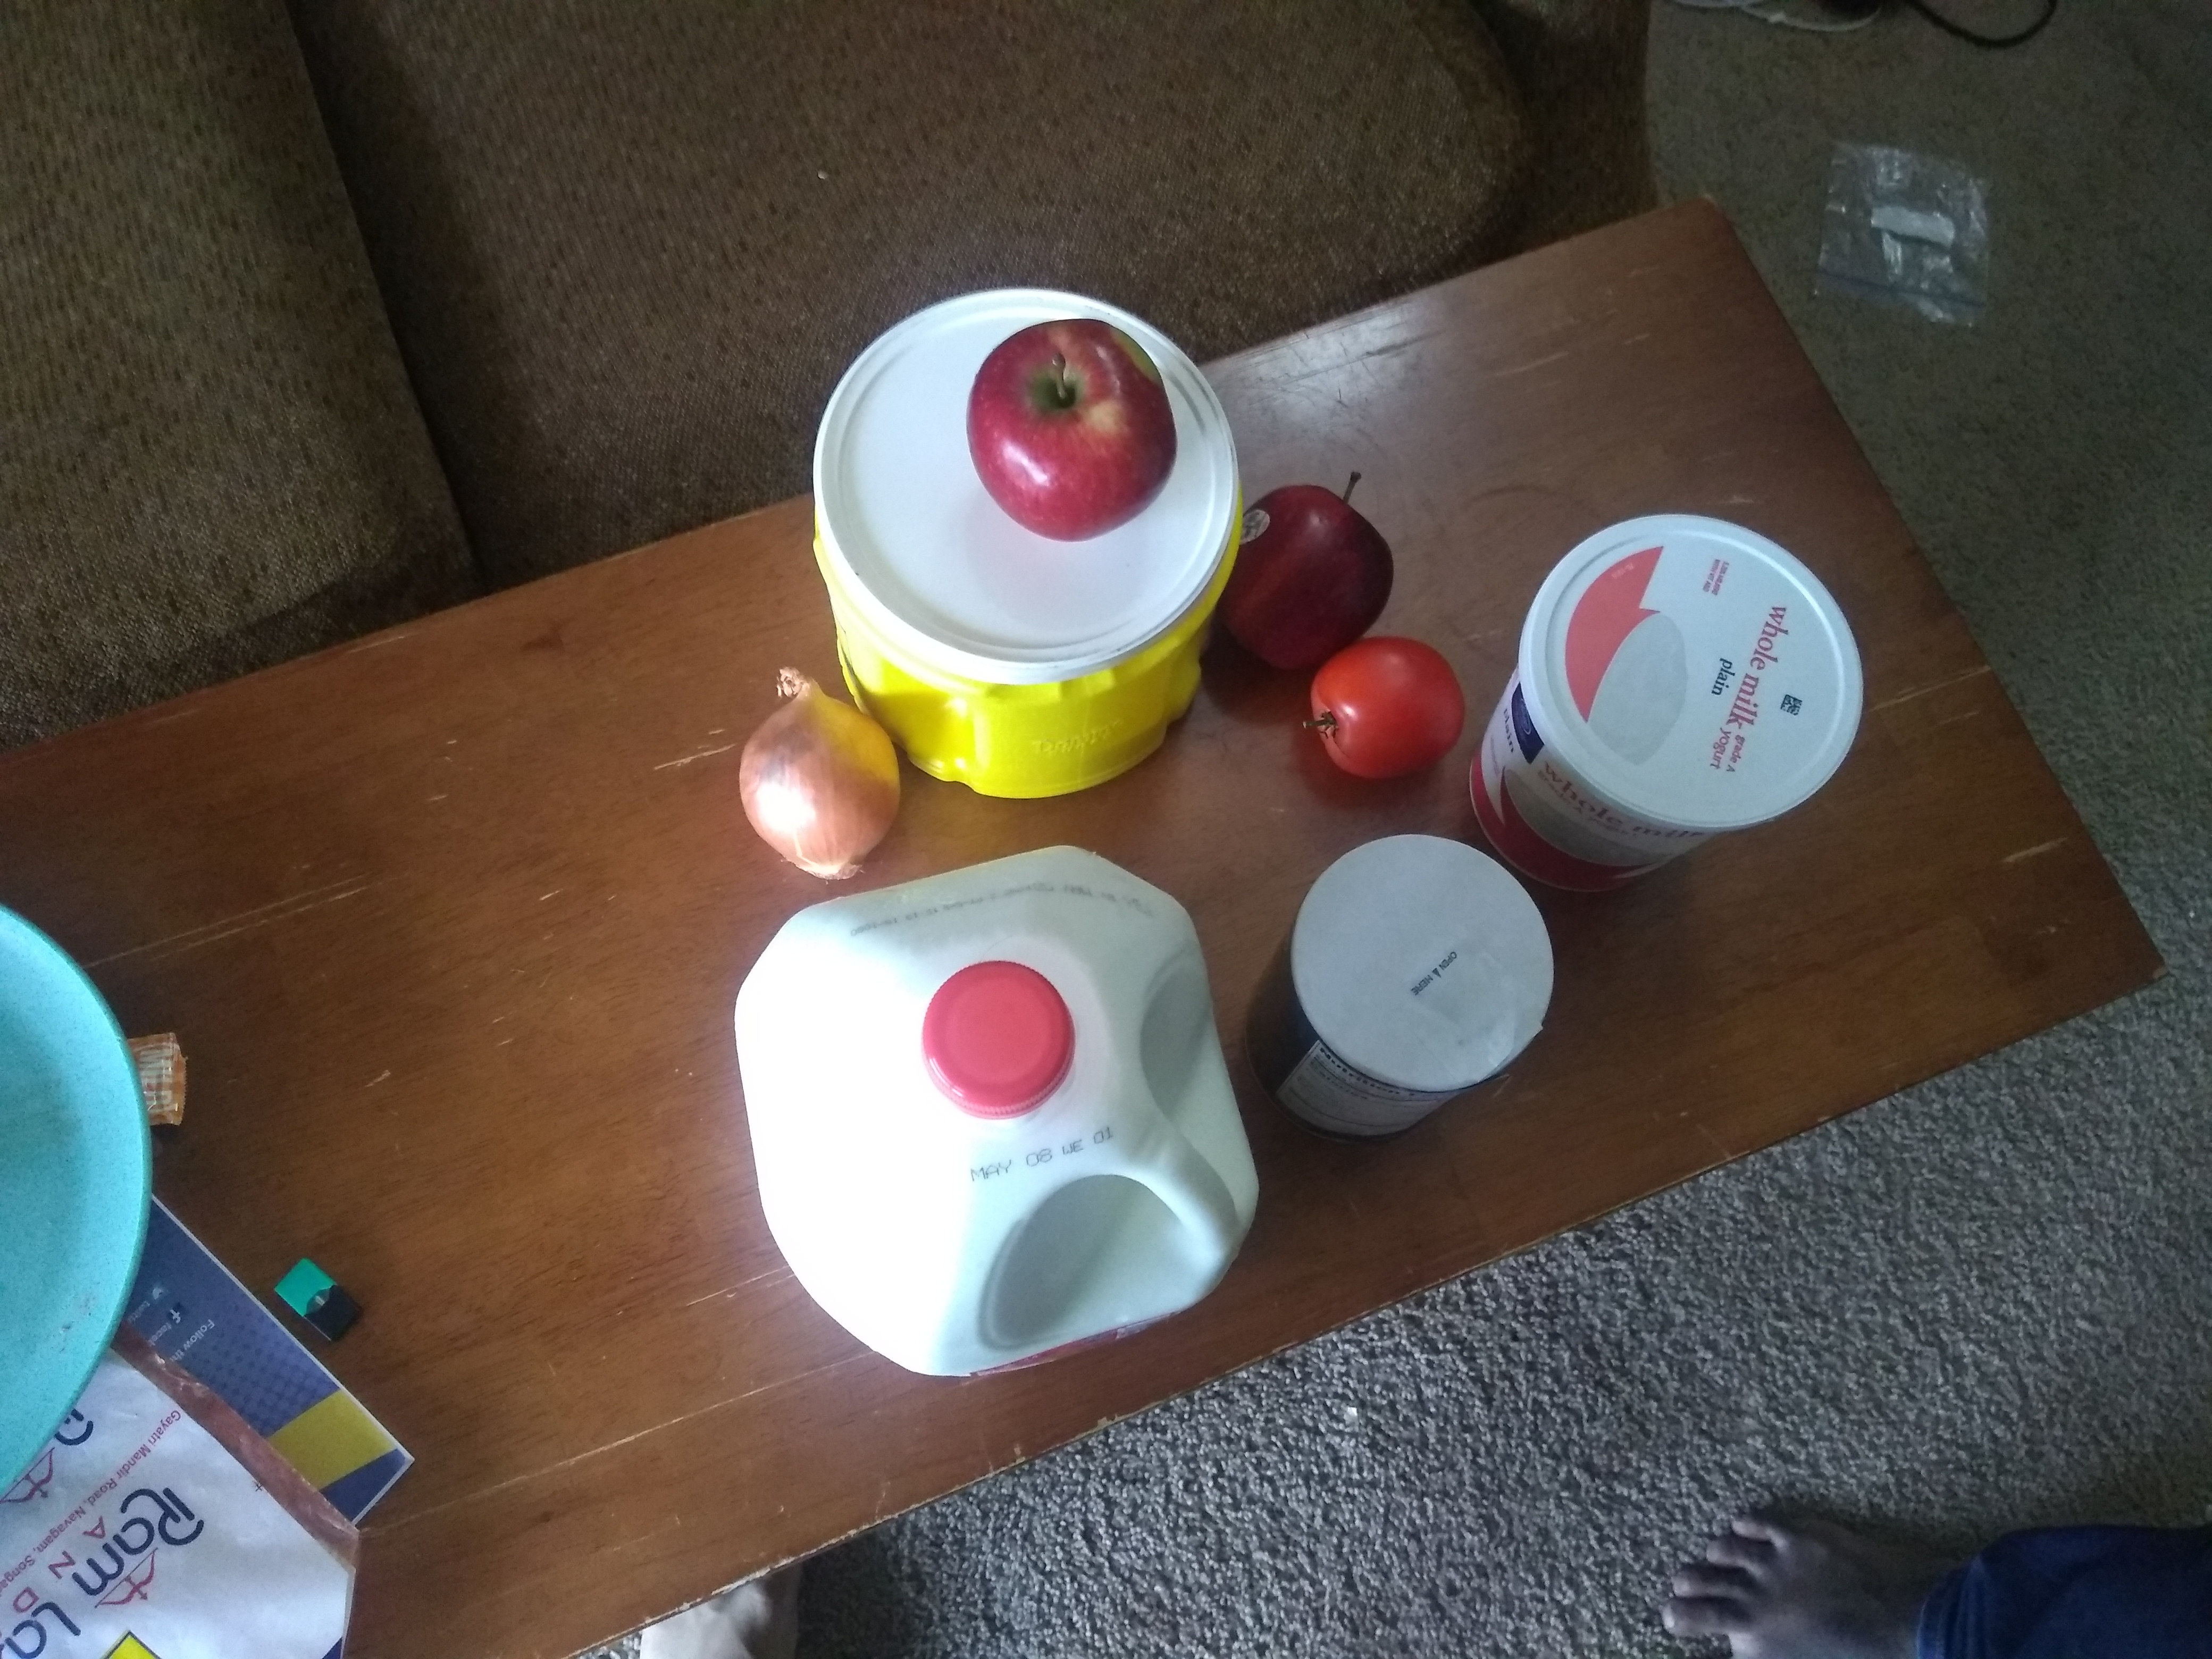apple: (970, 312, 1186, 528), (1212, 477, 1393, 660)
milk: (726, 859, 1261, 1366)
onion: (709, 676, 921, 859)
salt: (1245, 831, 1557, 1114)
sugar: (806, 281, 1242, 779)
tomato: (1289, 640, 1475, 755)
yoghurt: (1489, 512, 1874, 894)
